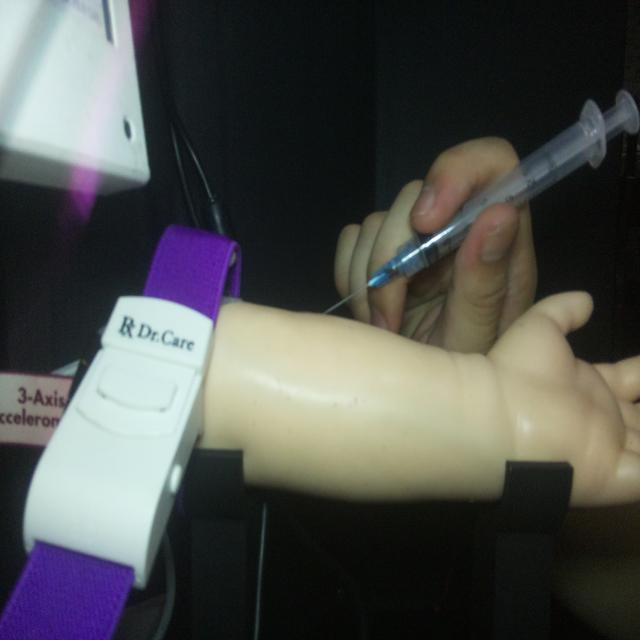23 degrees: (324, 90, 636, 314)
